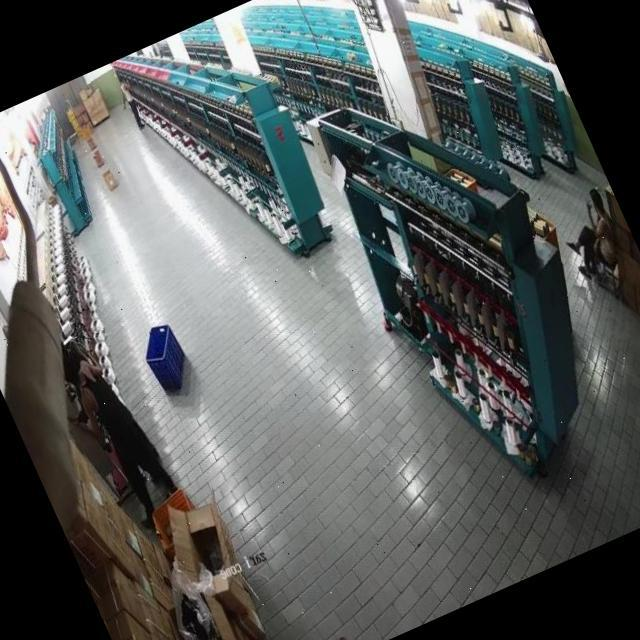person: (61, 338, 177, 516), (550, 188, 630, 282), (110, 70, 150, 135)
